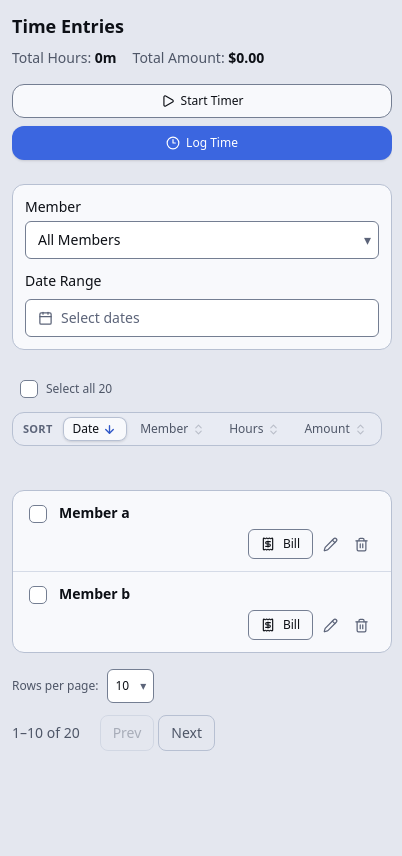
Test: selection across a page change › drops the selection when the list moves to another page
Step 1. Click the 1st checkbox named "Select row" → [38, 514], box x1=29 y1=505 x2=47 y2=523
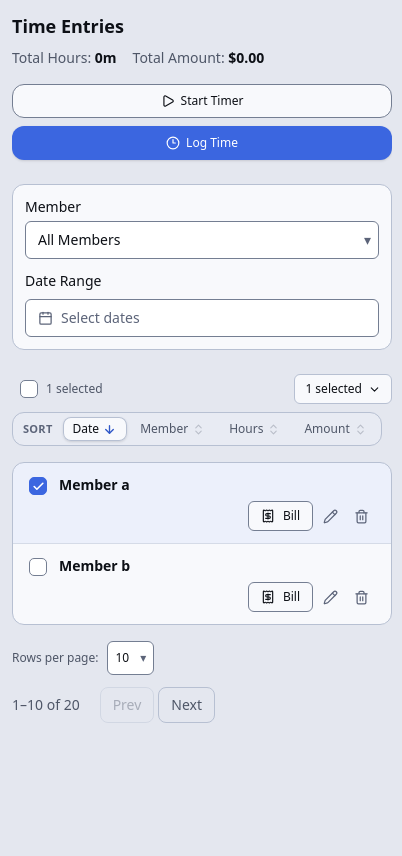
Check: the button "1 selected" is shown, box x1=294 y1=374 x2=392 y2=404
